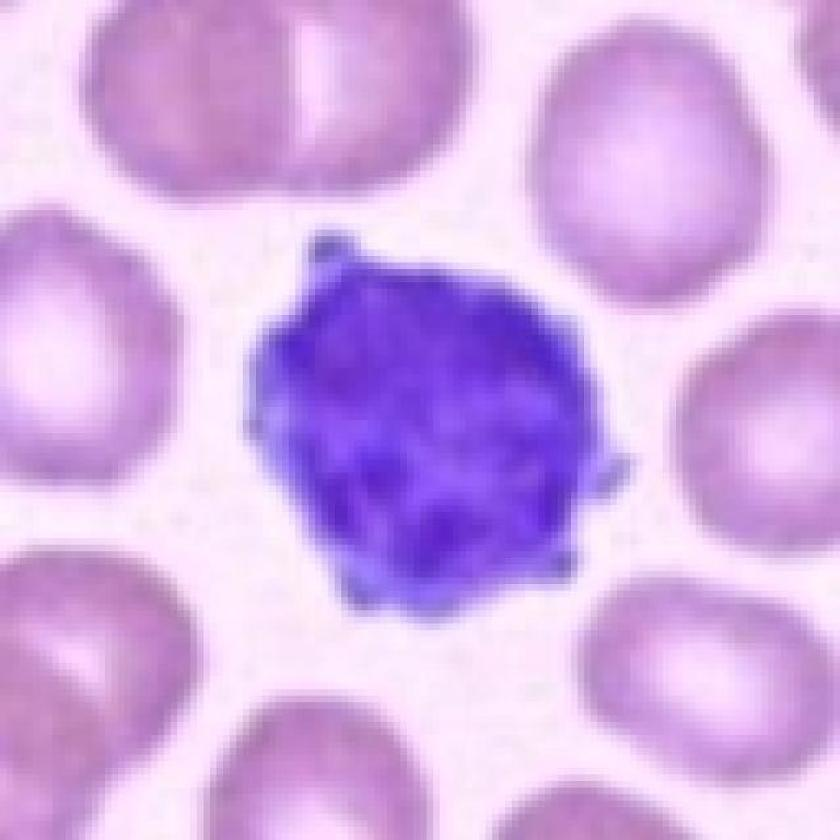lymphocyte: (232, 222, 636, 625)
